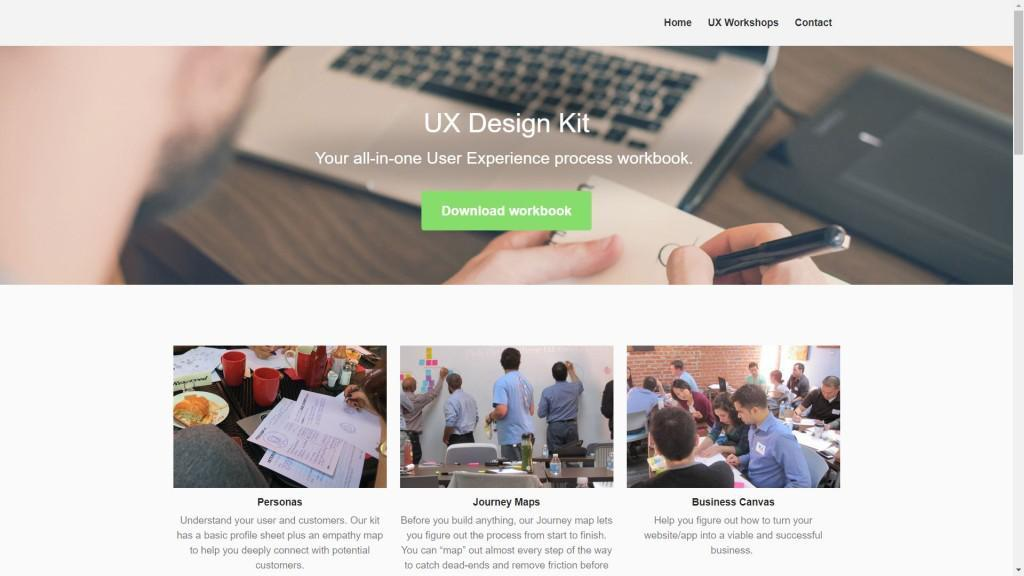button: (423, 193, 595, 231)
label: (423, 110, 595, 137), (691, 495, 778, 511), (709, 18, 780, 29), (473, 498, 541, 509), (258, 498, 306, 510), (795, 19, 835, 30), (664, 19, 693, 29)
